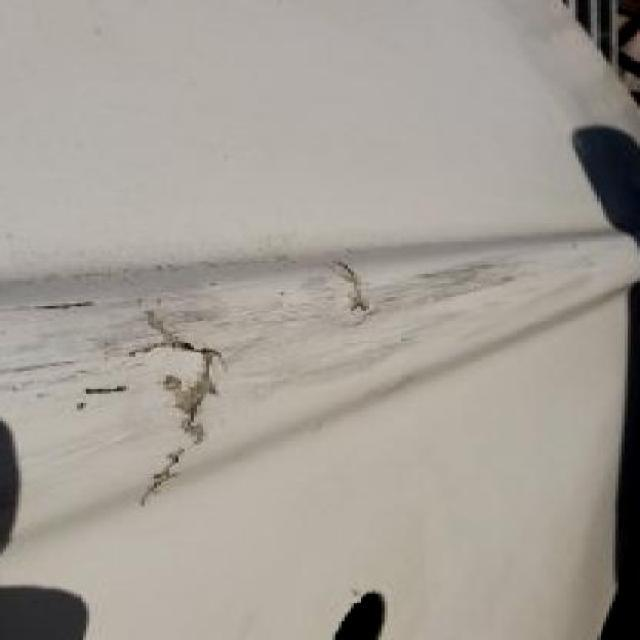crack: (146, 306, 219, 509), (334, 257, 367, 305)
